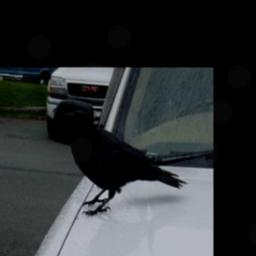Crow: (65, 108, 186, 217)
